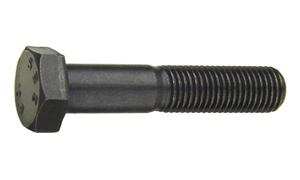screw: (14, 45, 287, 133)
